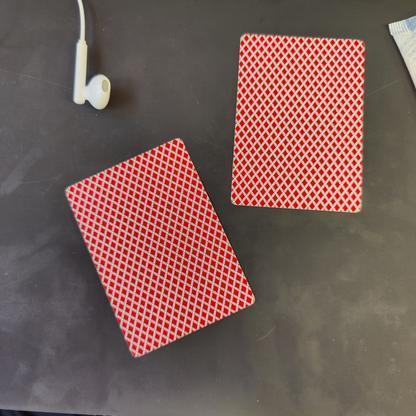card: (64, 136, 256, 367), (226, 29, 367, 218)
